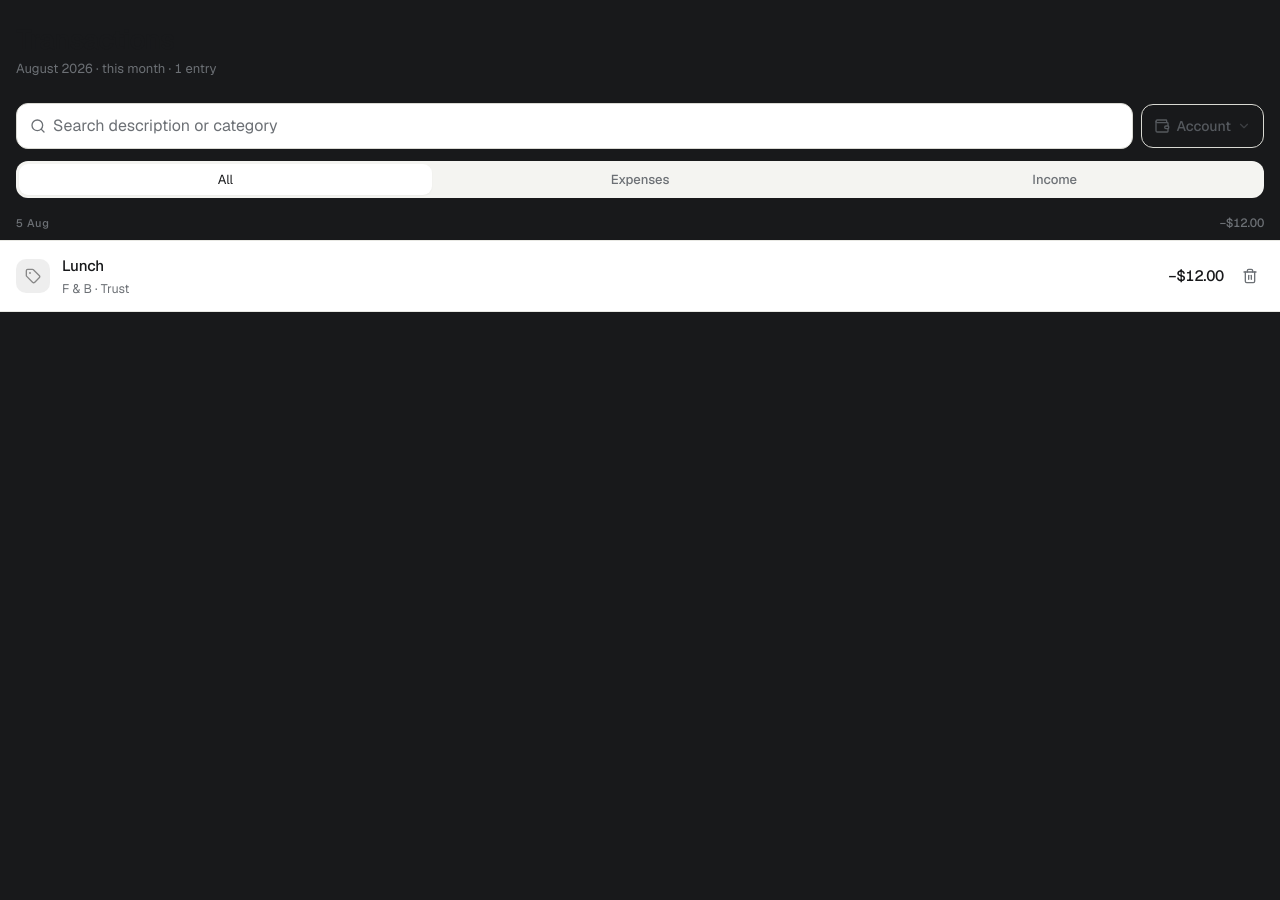
Test case: transfers in the ledger › lists every account at once in the picker, however many there are
This screenshot has width=1280, height=900.
Click the button "Account".
click(1203, 126)  # box x1=1141 y1=104 x2=1264 y2=148
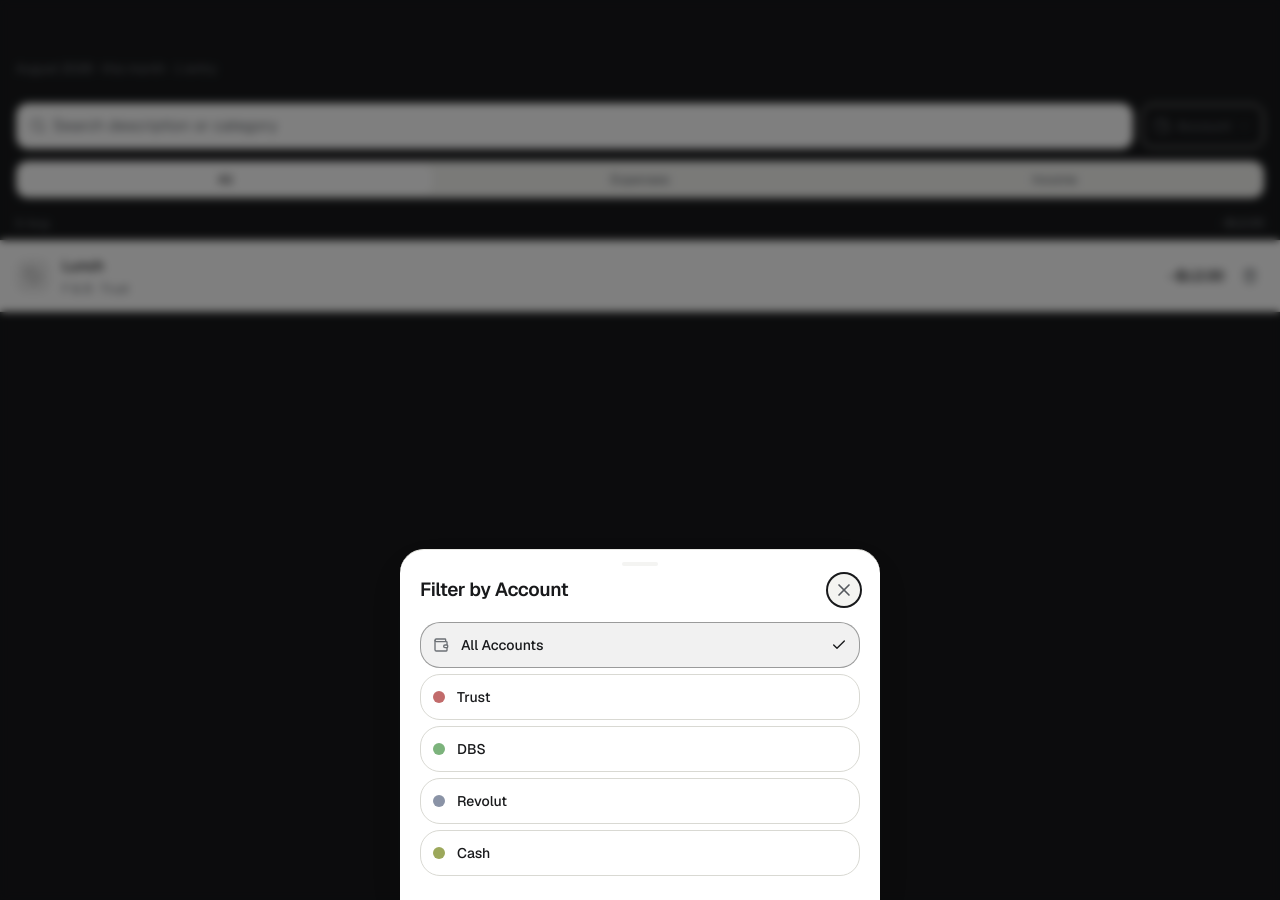
Now the button "All Accounts" is shown, box x1=420 y1=622 x2=860 y2=668
Now the button "Trust" is shown, box x1=420 y1=674 x2=860 y2=720
Now the button "DBS" is shown, box x1=420 y1=726 x2=860 y2=772
